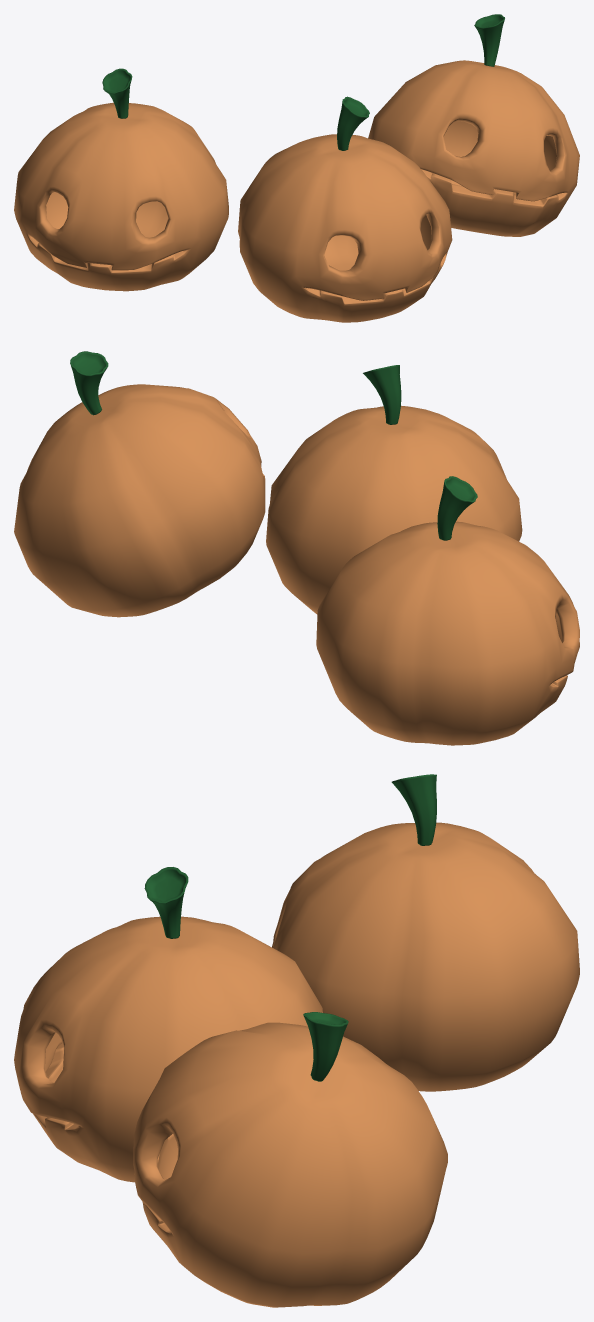
Rendered from Pumpkin.fbx.
The picture shows the model from 3 angles, top to bottom: view 1: azimuth 30°, elevation 25°; view 2: azimuth 150°, elevation 25°; view 3: azimuth 270°, elevation 25°; orthographic projection. The views are drawn at different scales.
Parts seen in each view (by area): view 1: Sphere.001; view 2: Sphere.001; view 3: Sphere.001.
Boxes of the visible parts, x1,y1,x2,y2 form: Sphere.001: [14, 14, 579, 322]; Sphere.001: [14, 351, 579, 745]; Sphere.001: [14, 774, 579, 1307].
Bounding box in the file's own units: 124 × 50.53 × 87.09.
